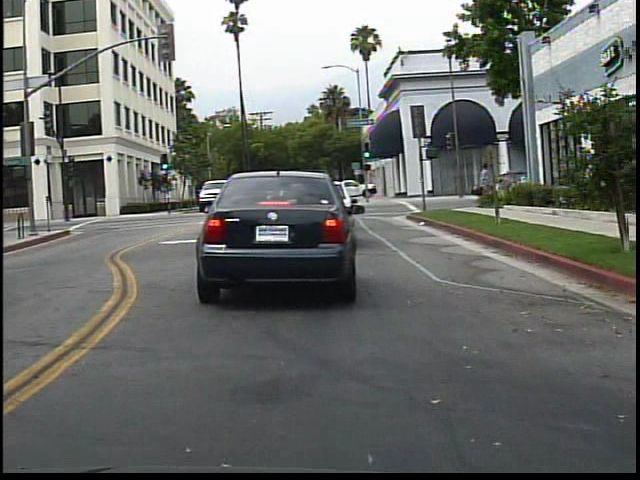person: (467, 159, 497, 208)
